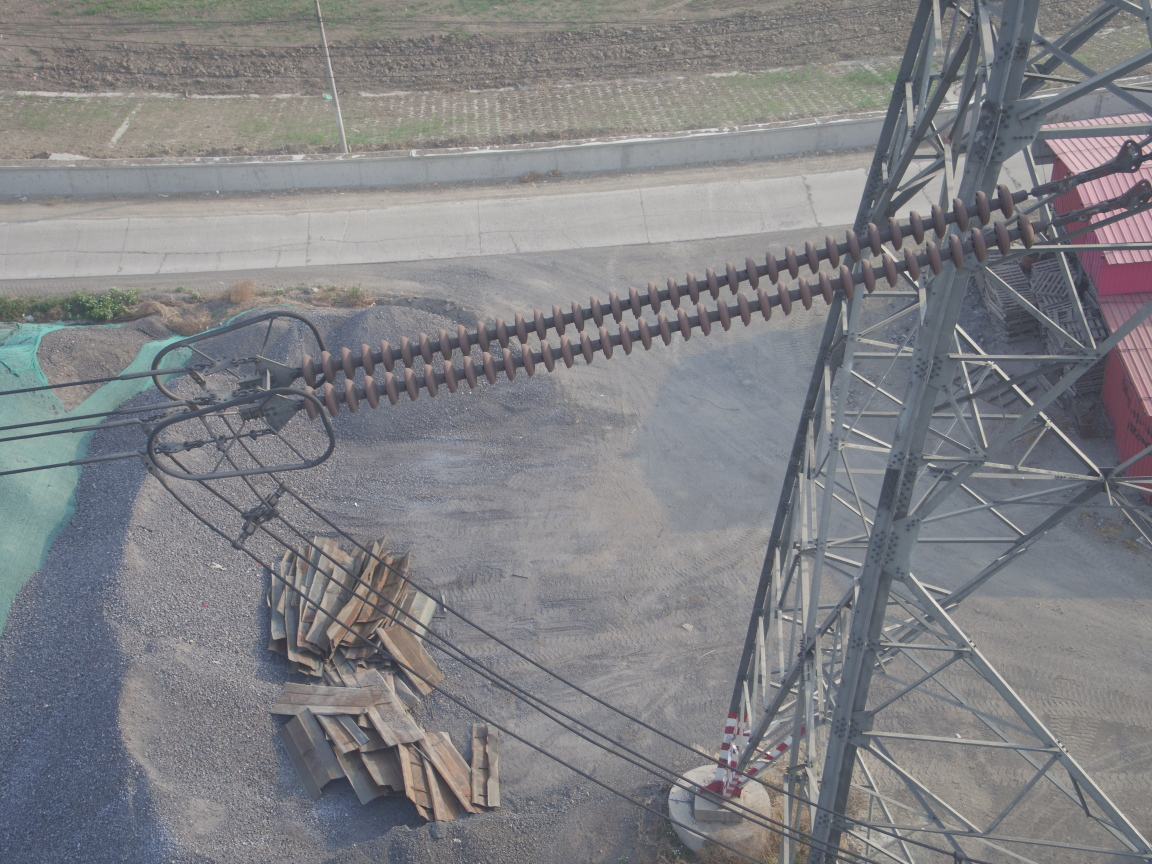insulator: (286, 179, 1089, 424)
